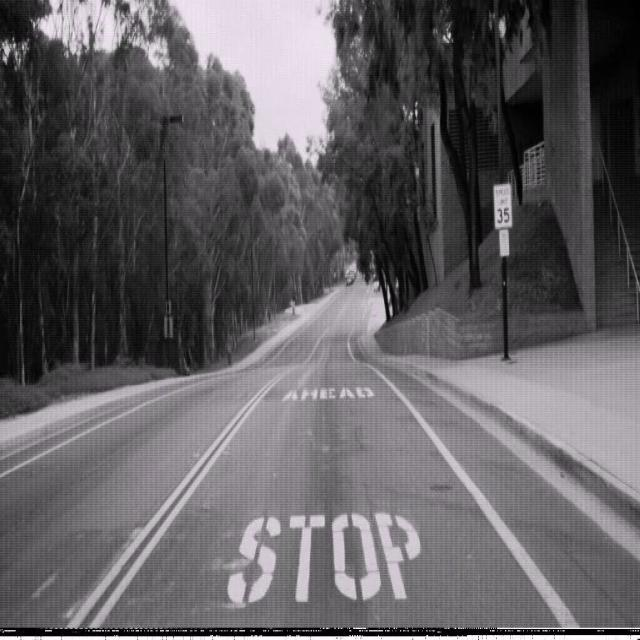speedLimit35: (493, 182, 513, 230)
